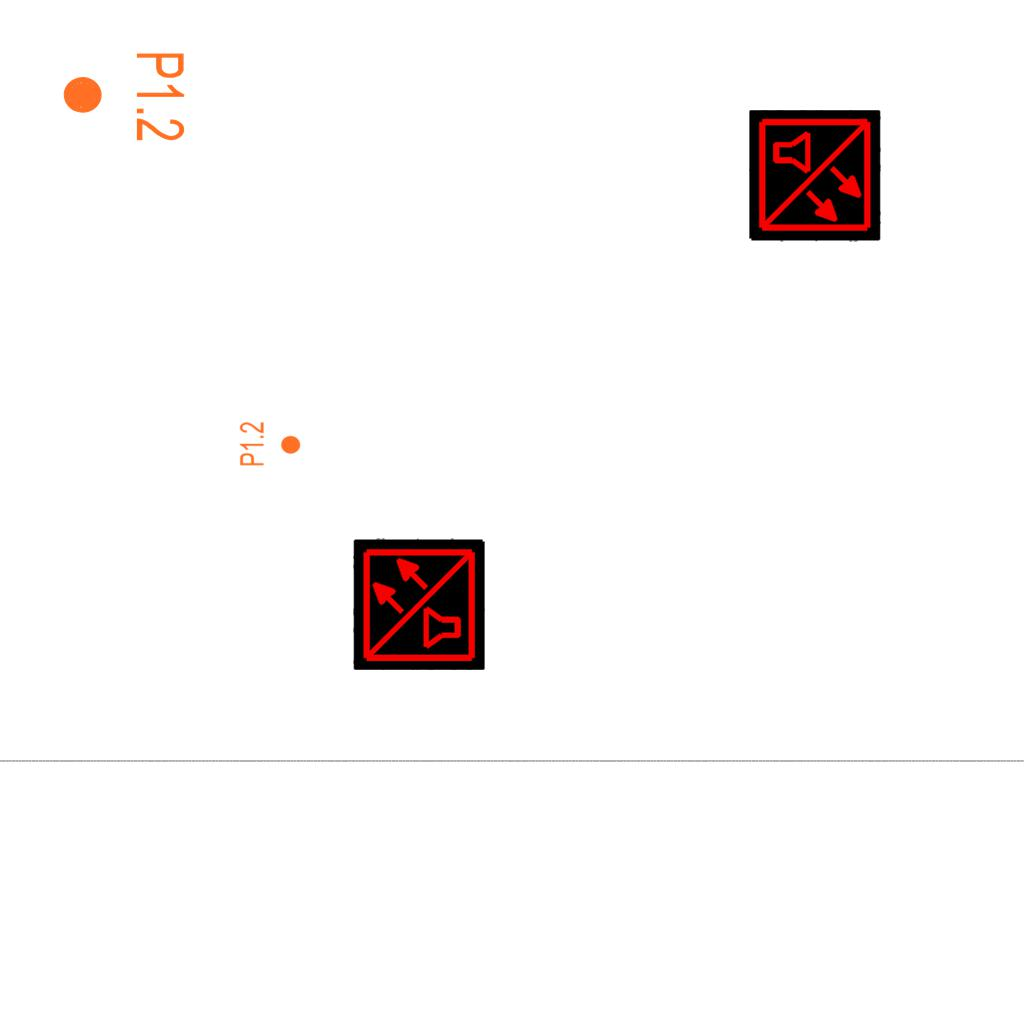Downlight_LED_Einbauleuchten_Flur: (60, 50, 188, 143), (238, 421, 302, 467)
OKW_Multisensormelder_(Kombination_optischer_Rauch-Kahlenmonoxid_Waerme-Melder): (353, 538, 485, 670), (749, 110, 881, 242)
